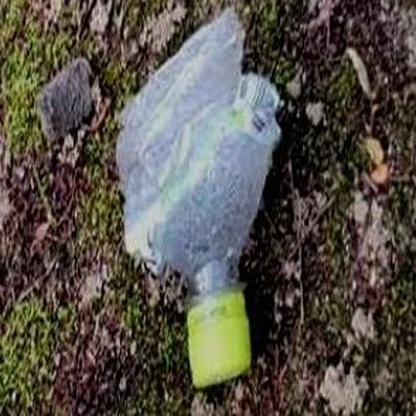plastic bottle: (115, 8, 283, 389)
